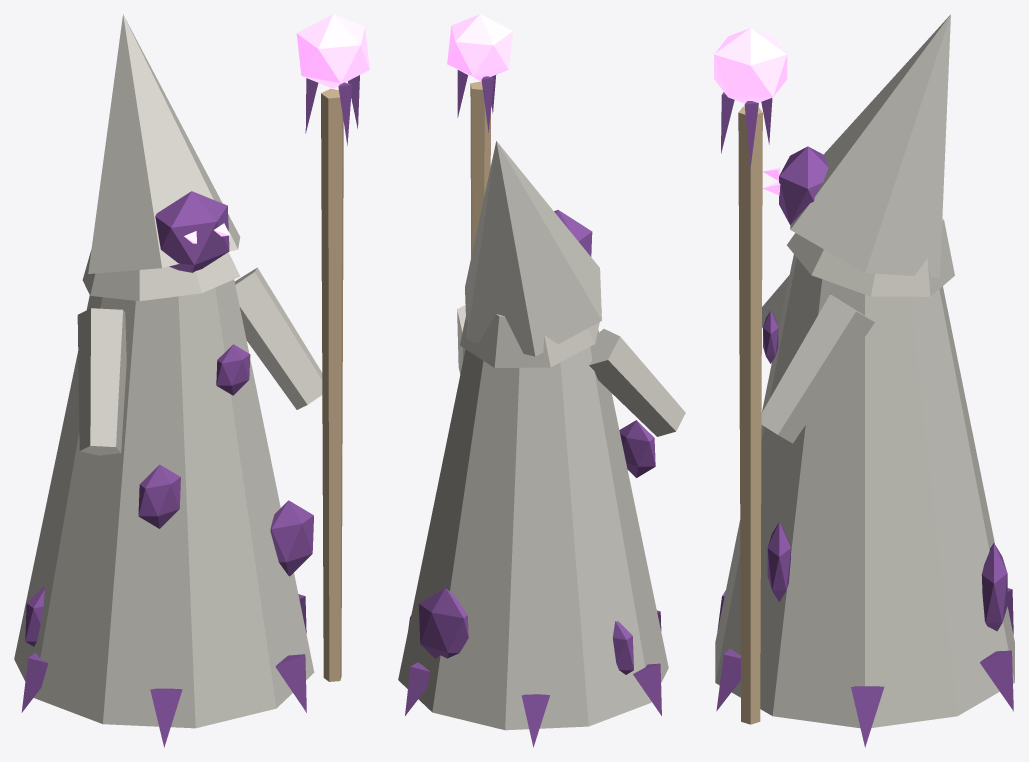
Rendered from ink_shaman.glb.
3 renders of one model, left to right at view 1: azimuth 30°, elevation 25°; view 2: azimuth 150°, elevation 25°; view 3: azimuth 270°, elevation 25°, orthographic. The views are drawn at different scales.
Visible parts, largest first — view 1: Ink_Shaman; view 2: Ink_Shaman; view 3: Ink_Shaman.
Part boxes in pixels (x1,y1,x2,y2): Ink_Shaman: (14,14,369,747); Ink_Shaman: (398,14,685,747); Ink_Shaman: (714,14,1014,747).
Bounding box in the file's own units: 0.5357 × 1.2 × 0.4635.
